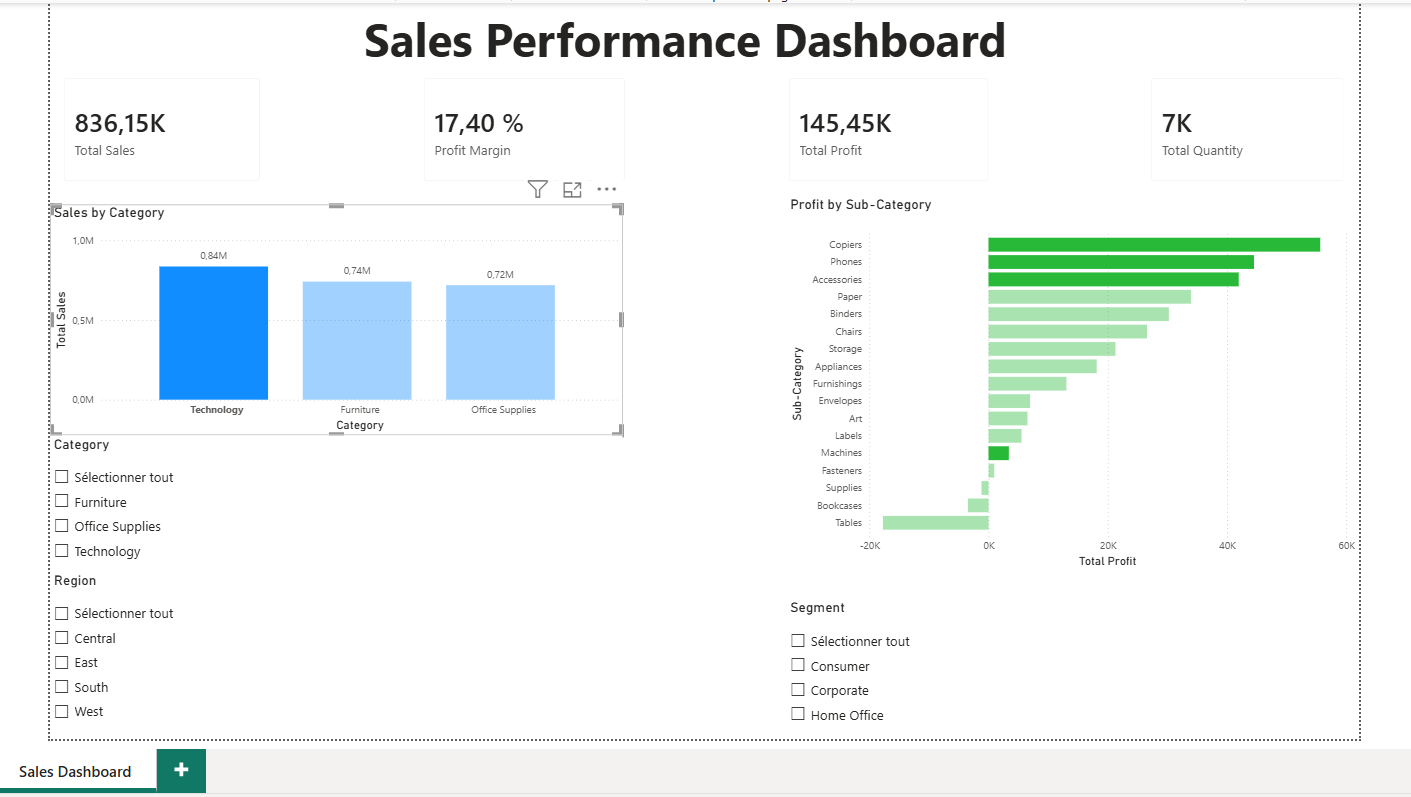

Layout of this report page (visuals, bound fields, positions):
{"tool":"powerbi","page":{"name":"Sales Dashboard","canvas":[1600,900],"ordinal":0},"visuals":[{"type":"textbox","box":[378.8,0,801,97.8],"z":0},{"type":"cardVisual","fields":{"Data":["Fact_Ventes.Total Sales"]},"box":[0,74.9,274.2,160.1],"z":1},{"type":"cardVisual","fields":{"Data":["Fact_Ventes.Total Profit"]},"box":[886.5,74.9,278.9,160.1],"z":2},{"type":"cardVisual","title":"Total Quantity Sold","fields":{"Data":["Fact_Ventes.Total Quantity"]},"box":[1330.6,74.9,269.4,160.1],"z":3},{"type":"cardVisual","fields":{"Data":["Fact_Ventes.Profit Margin"]},"box":[440.1,74.9,280.5,160.1],"z":4},{"type":"clusteredColumnChart","title":"Sales by Category","fields":{"Category":["Fact_Ventes.Category"],"Y":["Fact_Ventes.Total Sales"]},"box":[0,246.1,700.1,282.8],"z":5},{"type":"clusteredBarChart","title":"Profit by Sub-Category","fields":{"Category":["Fact_Ventes.Sub-Category"],"Y":["Fact_Ventes.Total Profit"]},"box":[900.3,235.4,700.1,460.1],"z":6},{"type":"listSlicer","fields":{"Values":["Fact_Ventes.Region"]},"box":[0,695.5,700.1,204.8],"z":7},{"type":"listSlicer","fields":{"Values":["Dim_Produit.Category"]},"box":[0,528.9,700.1,166.6],"z":8},{"type":"listSlicer","fields":{"Values":["Fact_Ventes.Segment"]},"box":[900.3,729.1,700.1,171.2],"z":9}]}

Visuals, with their boxes on the page's 1600x900 design canvas (x1, y1, x2, y2). These are canvas units, not pixel positions in the 1411x797 screenshot, which may show the page scaled, cropped or inside an application window:
textbox: box(379, 0, 1180, 98)
cardVisual - Fact_Ventes.Total Sales: box(0, 75, 274, 235)
cardVisual - Fact_Ventes.Total Profit: box(886, 75, 1165, 235)
"Total Quantity Sold" cardVisual: box(1331, 75, 1600, 235)
cardVisual - Fact_Ventes.Profit Margin: box(440, 75, 721, 235)
"Sales by Category" clusteredColumnChart: box(0, 246, 700, 529)
"Profit by Sub-Category" clusteredBarChart: box(900, 235, 1600, 696)
listSlicer - Fact_Ventes.Region: box(0, 696, 700, 900)
listSlicer - Dim_Produit.Category: box(0, 529, 700, 696)
listSlicer - Fact_Ventes.Segment: box(900, 729, 1600, 900)
